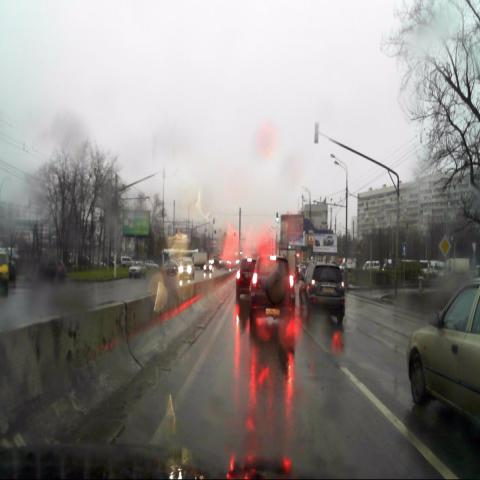2_1: (438, 235, 452, 257)
